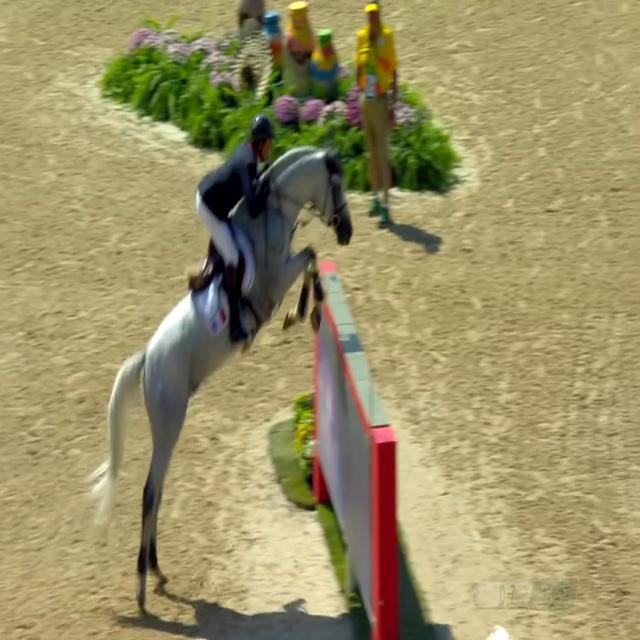Horse Jumping: (70, 102, 360, 619)
Horse Rider: (186, 44, 273, 360)
